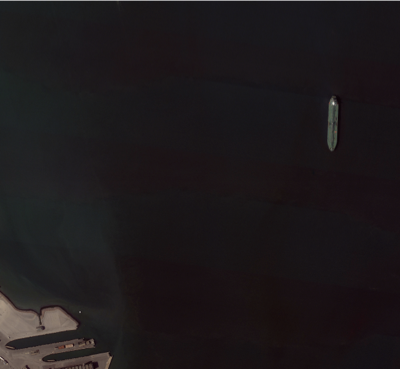boat: (327, 95, 339, 151)
